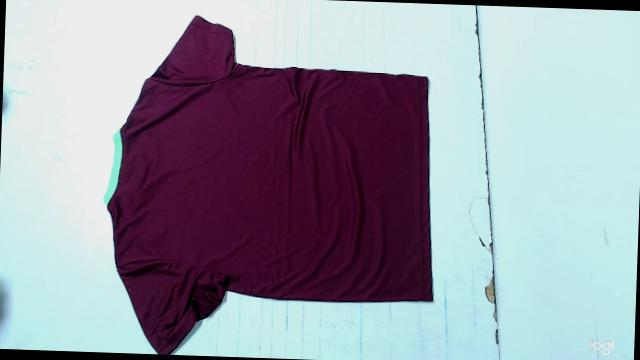new-garment: (105, 16, 433, 354)
